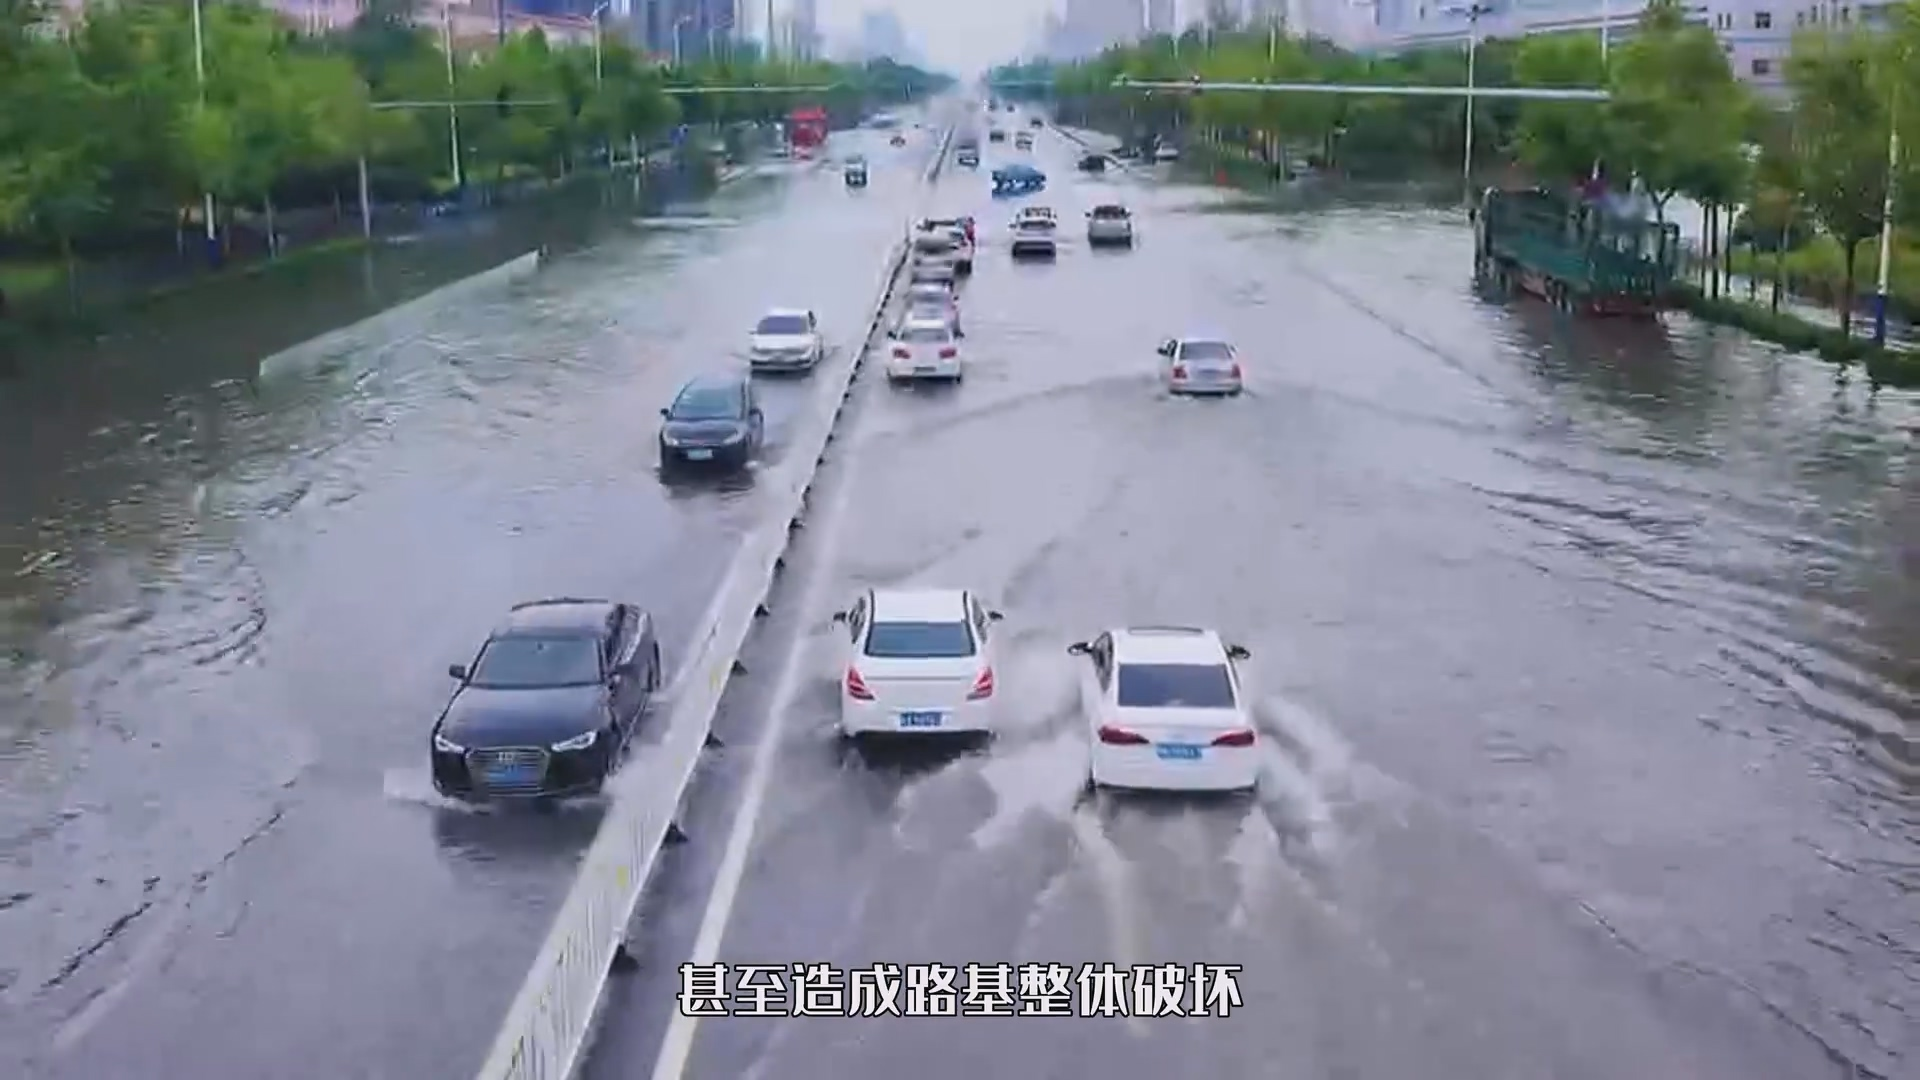puddle: (1, 272, 1920, 1080)
